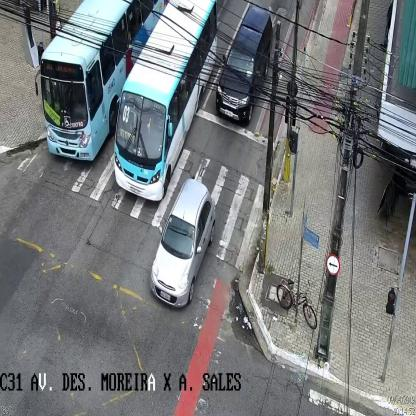bicycle: (276, 280, 316, 328)
bus: (35, 3, 170, 160), (114, 2, 218, 199)
car: (149, 179, 214, 309), (216, 5, 272, 126)
